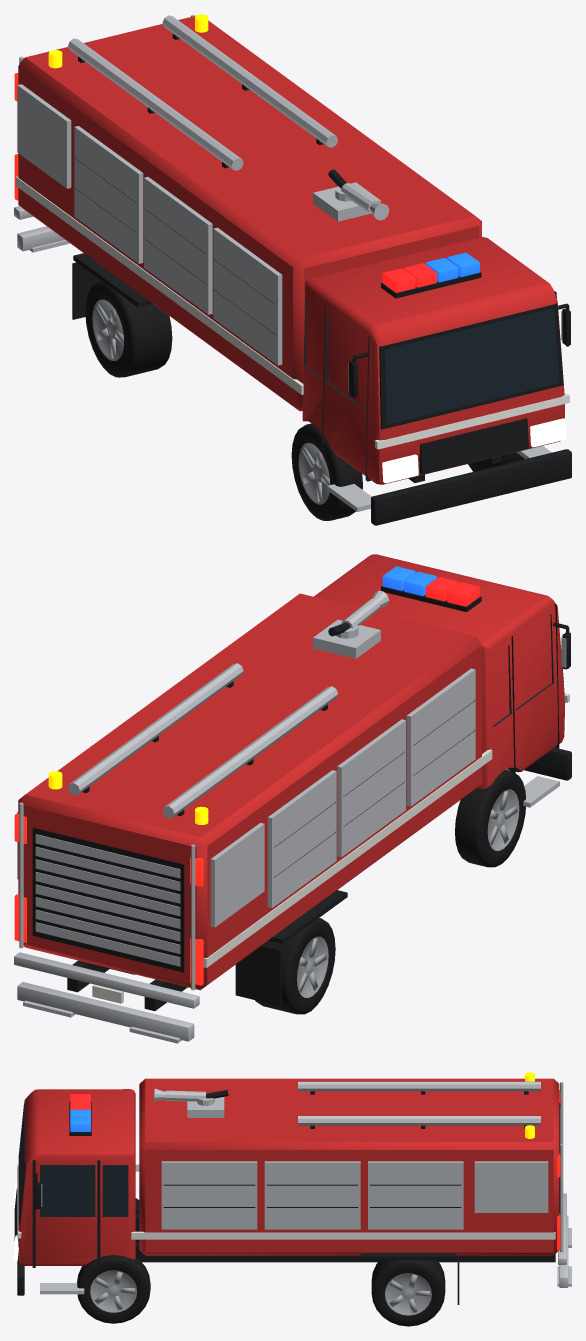
File: fire_truck.glb
3 views of the same model, one above another, from view 1: azimuth 30°, elevation 25°; view 2: azimuth 150°, elevation 25°; view 3: azimuth 270°, elevation 25° (orthographic). The views are drawn at different scales.
Visible parts, largest first — view 1: body, wheel_rr, wheel_fr, cannon; view 2: body, wheel_fr, wheel_rr, cannon; view 3: body, wheel_rl, wheel_fl, cannon.
Part boxes in pixels (x1,y1,x2,y2): body: (14,14,571,525); wheel_rr: (85,281,172,377); wheel_fr: (291,423,362,520); cannon: (313,169,389,221); body: (14,554,571,1043); wheel_fr: (455,770,525,867); wheel_rr: (255,918,335,1014); cannon: (313,590,389,658); body: (14,1072,571,1304); wheel_rl: (371,1260,445,1326); wheel_fl: (77,1255,150,1323); cannon: (153,1088,228,1117).
Size of the model in its own units: 2.54 by 3.02 by 7.57.
